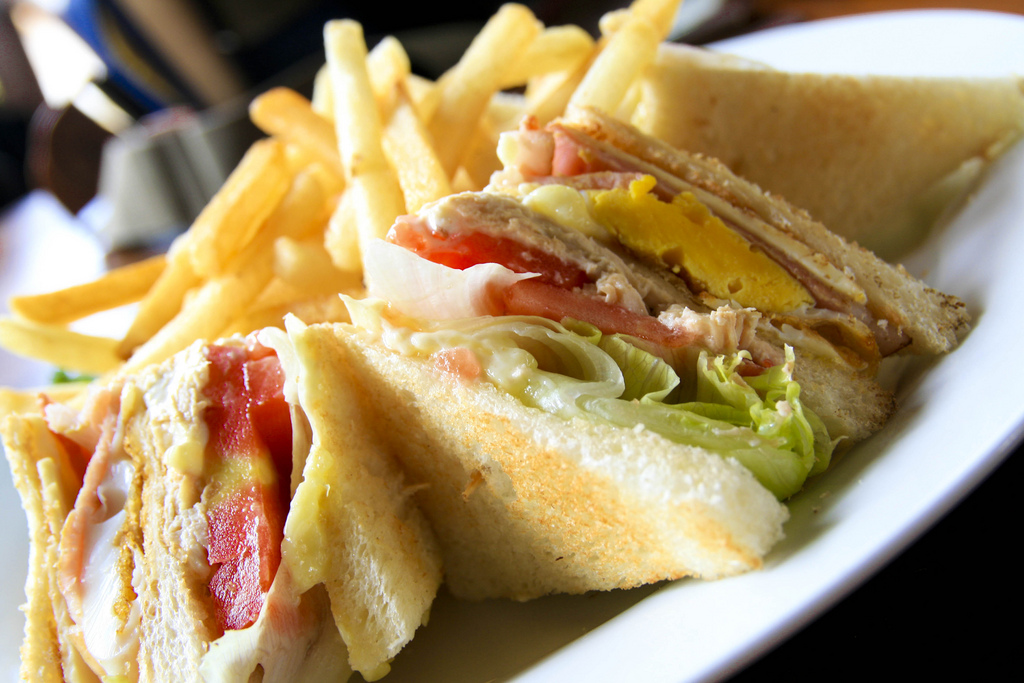chopped lettuce: (453, 298, 837, 483)
slice of bread: (271, 339, 768, 622), (644, 50, 1024, 240)
